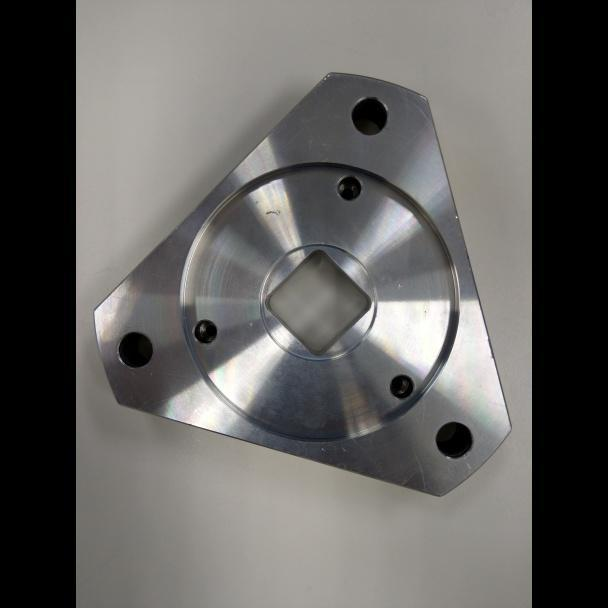hole: (349, 93, 391, 137), (433, 419, 475, 460), (115, 330, 156, 370), (332, 172, 364, 202), (388, 372, 416, 401), (190, 318, 219, 346)
